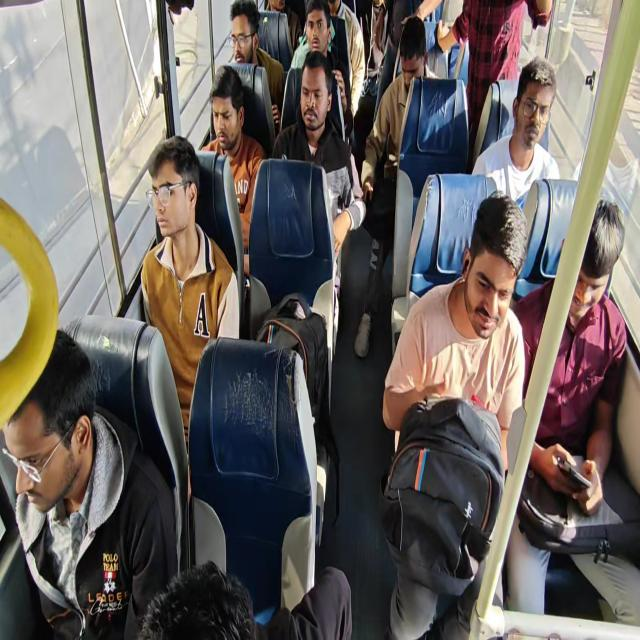person: (2, 1, 637, 638), (380, 191, 527, 638), (504, 197, 639, 627), (2, 327, 178, 639), (140, 134, 240, 501), (354, 16, 439, 358), (272, 50, 366, 259), (138, 559, 352, 639), (436, 0, 552, 135), (200, 64, 266, 276), (471, 56, 560, 210), (289, 0, 350, 142), (226, 0, 285, 133), (327, 0, 365, 119)
